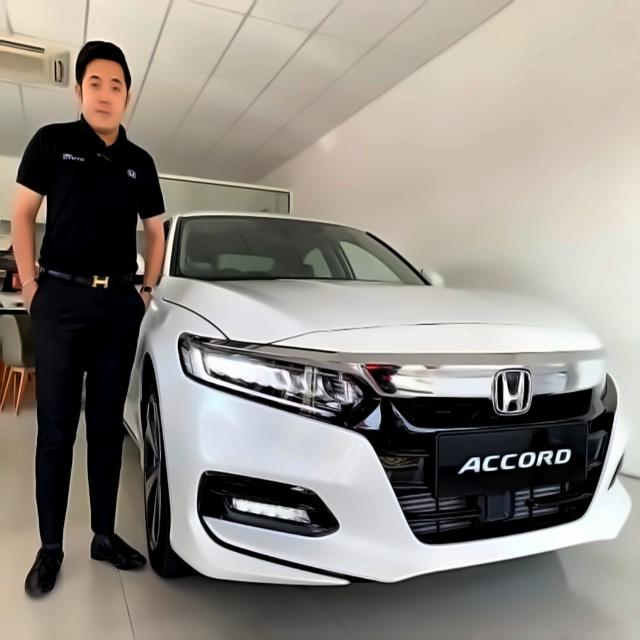Car hood: (159, 274, 610, 358)
Front bumper: (153, 386, 640, 601)
Headlight - -R-: (170, 330, 371, 429)
Side mirror - -L-: (416, 263, 456, 296)
